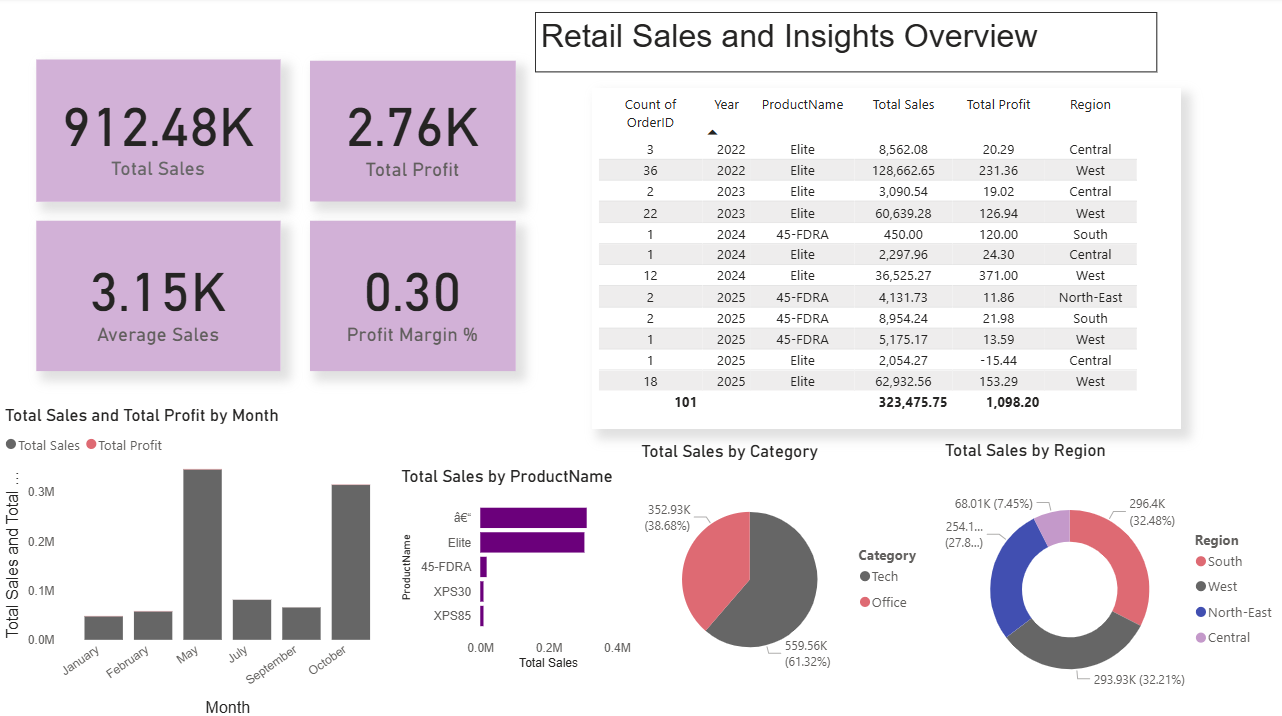

This screenshot's page, from the dashboard's own definition file:
{"tool":"powerbi","page":{"name":"Page 1","canvas":[1280,720],"ordinal":0},"visuals":[{"type":"card","fields":{"Values":["Retail_sales_dataset-1 (2).Total Sales"]},"box":[35.7,61.7,242.9,141.3],"z":0},{"type":"card","fields":{"Values":["Retail_sales_dataset-1 (2).Profit Margin %"]},"box":[308.7,222.3,204.5,149.6],"z":1000},{"type":"card","fields":{"Values":["Retail_sales_dataset-1 (2).Total Profit"]},"box":[308.7,63.1,204.5,140],"z":2000},{"type":"columnChart","fields":{"Category":["Retail_sales_dataset-1 (2).OrderDate.Variation.Date Hierarchy.Month"],"Y":["Retail_sales_dataset-1 (2).Total Sales","Retail_sales_dataset-1 (2).Total Profit"]},"box":[0,405.5,394.3,314.7],"z":3000},{"type":"pieChart","fields":{"Y":["Retail_sales_dataset-1 (2).Total Sales"],"Category":["Retail_sales_dataset-1 (2).Category"]},"box":[633.2,441.6,302.3,257.5],"z":4000},{"type":"donutChart","fields":{"Category":["Retail_sales_dataset-1 (2).Region"],"Y":["Retail_sales_dataset-1 (2).Total Sales"]},"box":[935.5,440.4,344.6,279.9],"z":5000},{"type":"barChart","fields":{"Category":["Retail_sales_dataset-1 (2).ProductName"],"Y":["Retail_sales_dataset-1 (2).Total Sales"]},"box":[394.3,466.5,238.8,207.7],"z":6000},{"type":"tableEx","fields":{"Values":["CountNonNull(Retail_sales_dataset-1 (2).OrderID)","Retail_sales_dataset-1 (2).OrderDate.Variation.Date Hierarchy.Year","Retail_sales_dataset-1 (2).ProductName","Retail_sales_dataset-1 (2).Total Sales","Retail_sales_dataset-1 (2).Total Profit","Retail_sales_dataset-1 (2).Region"]},"box":[590.1,90.6,585.9,338.9],"z":7000},{"type":"card","fields":{"Values":["Retail_sales_dataset-1 (2).Average Sales"]},"box":[35.7,222.3,242.9,149.6],"z":8000},{"type":"textbox","box":[532.4,15.1,618.9,60.4],"z":9000}]}

Visuals, with their boxes in screenshot pixels (x1, y1, x2, y2), scaled from the page's 1280x720 canvas onto the 1282x716 screenshot:
card - Retail_sales_dataset-1 (2).Total Sales: box=[36, 61, 279, 202]
card - Retail_sales_dataset-1 (2).Profit Margin %: box=[309, 221, 514, 370]
card - Retail_sales_dataset-1 (2).Total Profit: box=[309, 63, 514, 202]
columnChart - Retail_sales_dataset-1 (2).OrderDate.Variation.Date Hierarchy.Month x Retail_sales_dataset-1 (2).Total Sales: box=[0, 403, 395, 715]
pieChart - Retail_sales_dataset-1 (2).Total Sales x Retail_sales_dataset-1 (2).Category: box=[634, 439, 937, 695]
donutChart - Retail_sales_dataset-1 (2).Region x Retail_sales_dataset-1 (2).Total Sales: box=[937, 438, 1281, 715]
barChart - Retail_sales_dataset-1 (2).ProductName x Retail_sales_dataset-1 (2).Total Sales: box=[395, 464, 634, 670]
tableEx - CountNonNull(Retail_sales_dataset-1 (2).OrderID) x Retail_sales_dataset-1 (2).OrderDate.Variation.Date Hierarchy.Year: box=[591, 90, 1178, 427]
card - Retail_sales_dataset-1 (2).Average Sales: box=[36, 221, 279, 370]
textbox: box=[533, 15, 1153, 75]
